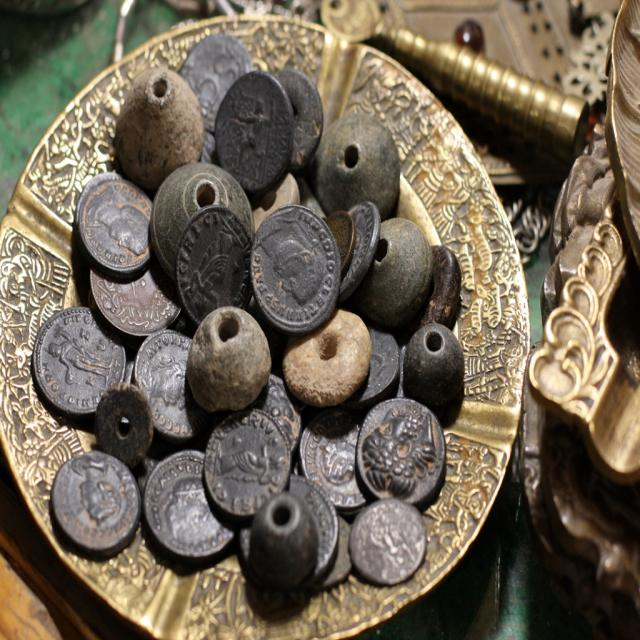Coin: (29, 27, 451, 585)
